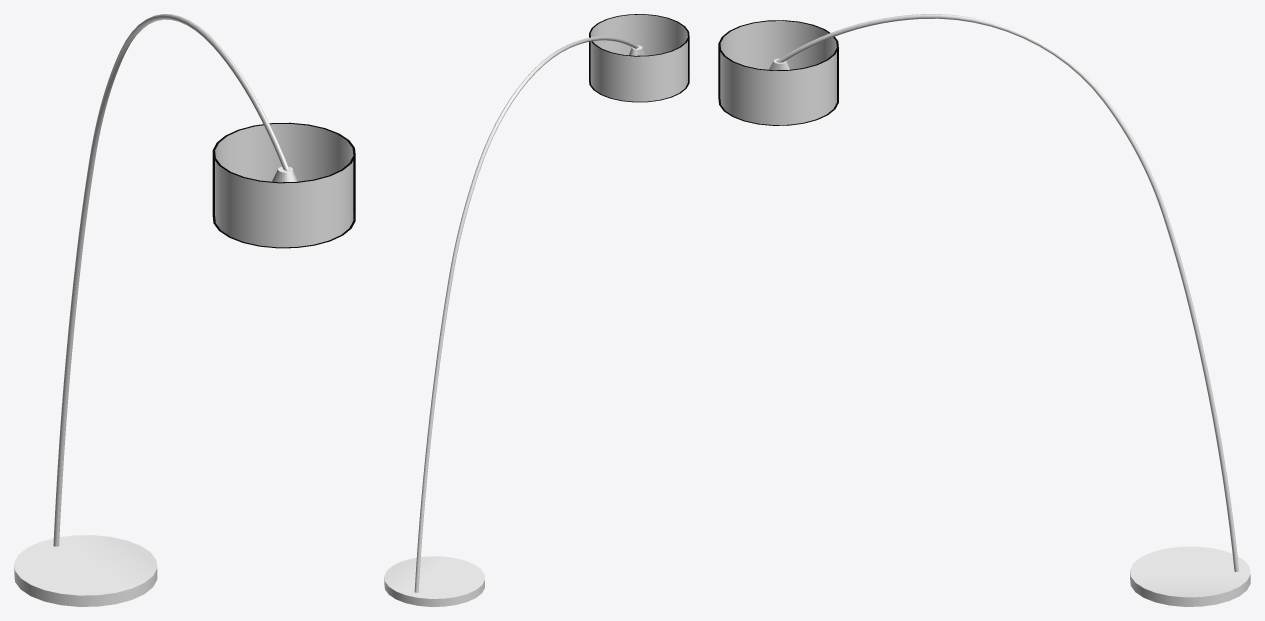
File: floor_lamp_4.glb
The picture shows the model from 3 angles, left to right: view 1: azimuth 30°, elevation 25°; view 2: azimuth 150°, elevation 25°; view 3: azimuth 270°, elevation 25°; orthographic projection. The views are drawn at different scales.
Visible parts, largest first — view 1: root; view 2: root; view 3: root.
Part boxes in pixels (<box>): root: <box>14,14,355,606</box>; root: <box>384,14,689,606</box>; root: <box>718,14,1250,606</box>.
Bounding box in the file's own units: 0.5463 × 2.03 × 1.76.
3 materials, 1 textured.
